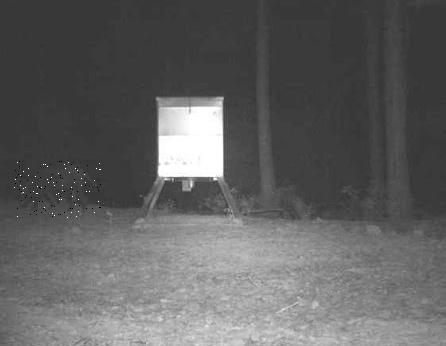Hog: (14, 161, 101, 218)
